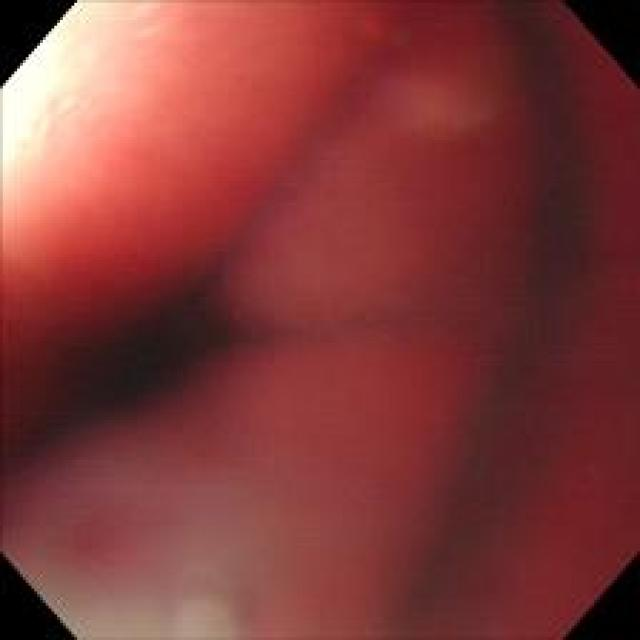blur: (8, 5, 638, 636)
contrast: (36, 262, 230, 459)
saturation: (1, 1, 119, 156)
